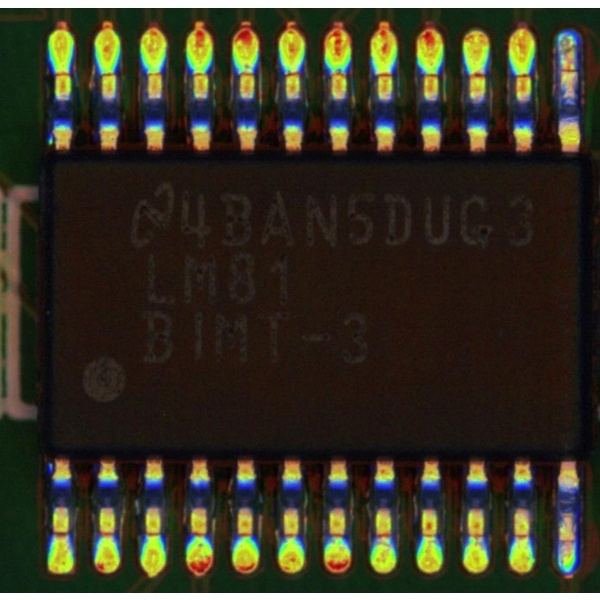Bad_podu: (561, 531, 574, 550), (563, 60, 576, 78)
